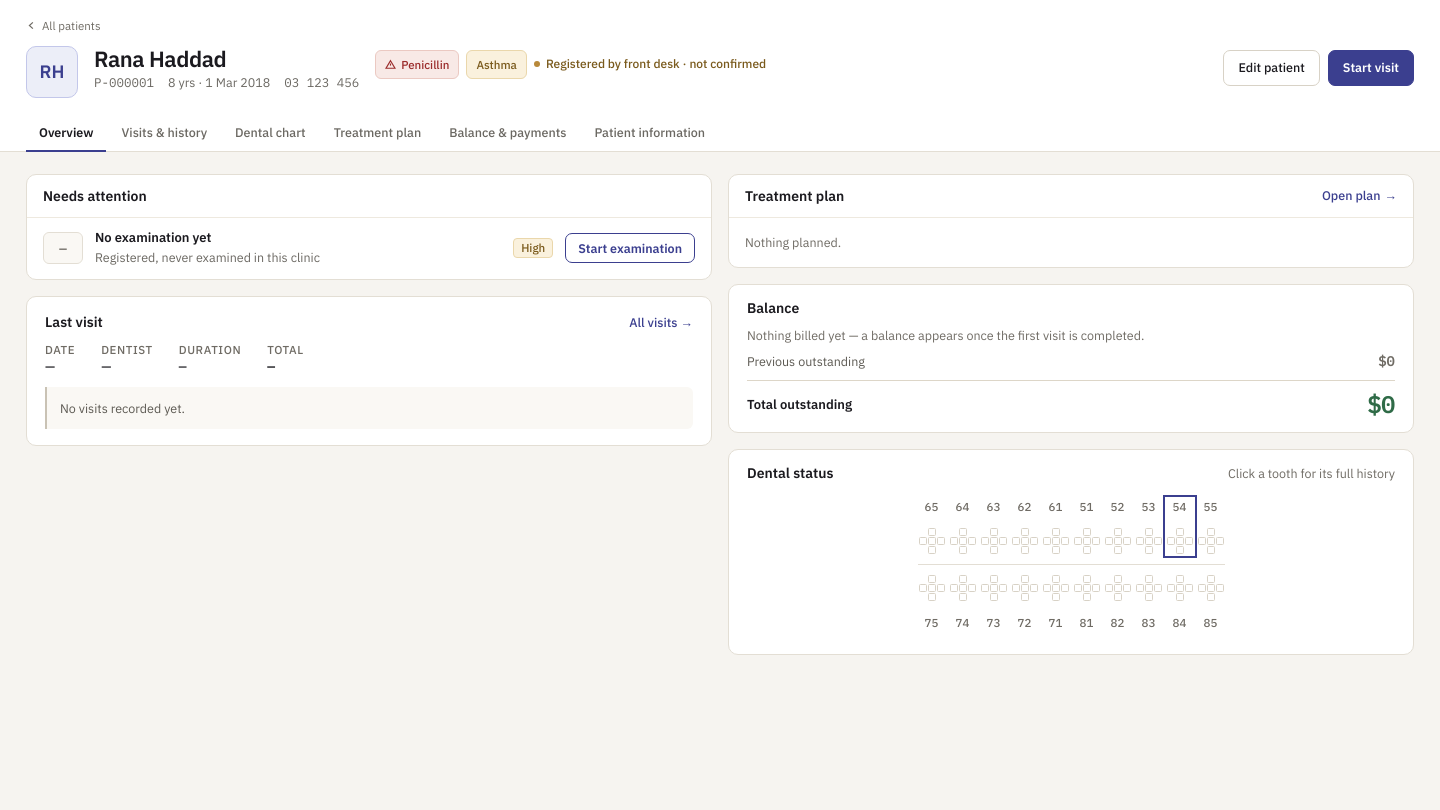
Test: ToothHistoryDialog › switches to the other tooth of the position through the succession link
The width and height of the screenshot is (1440, 810).
Expected: the heading "Rana Haddad" is shown, [94,46,226,71]
Click the button "54" at [1180, 527], box [1166,498,1194,556]
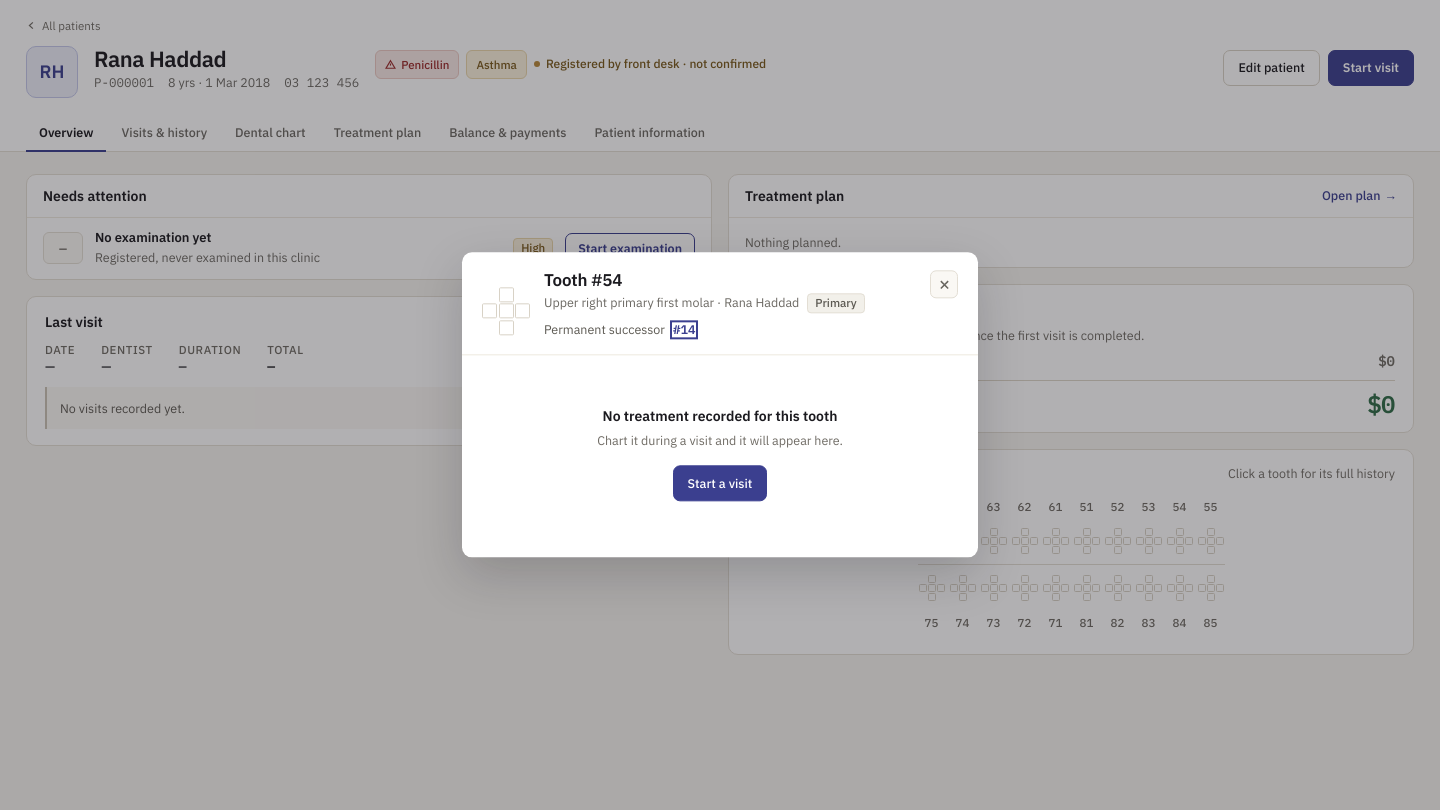
Expected: the text "Primary" is shown, [807,294,865,313]
Expected: the text "Permanent successor" is shown, [544,321,665,339]
Click the button "#14" at [684, 330], box [673,324,695,336]
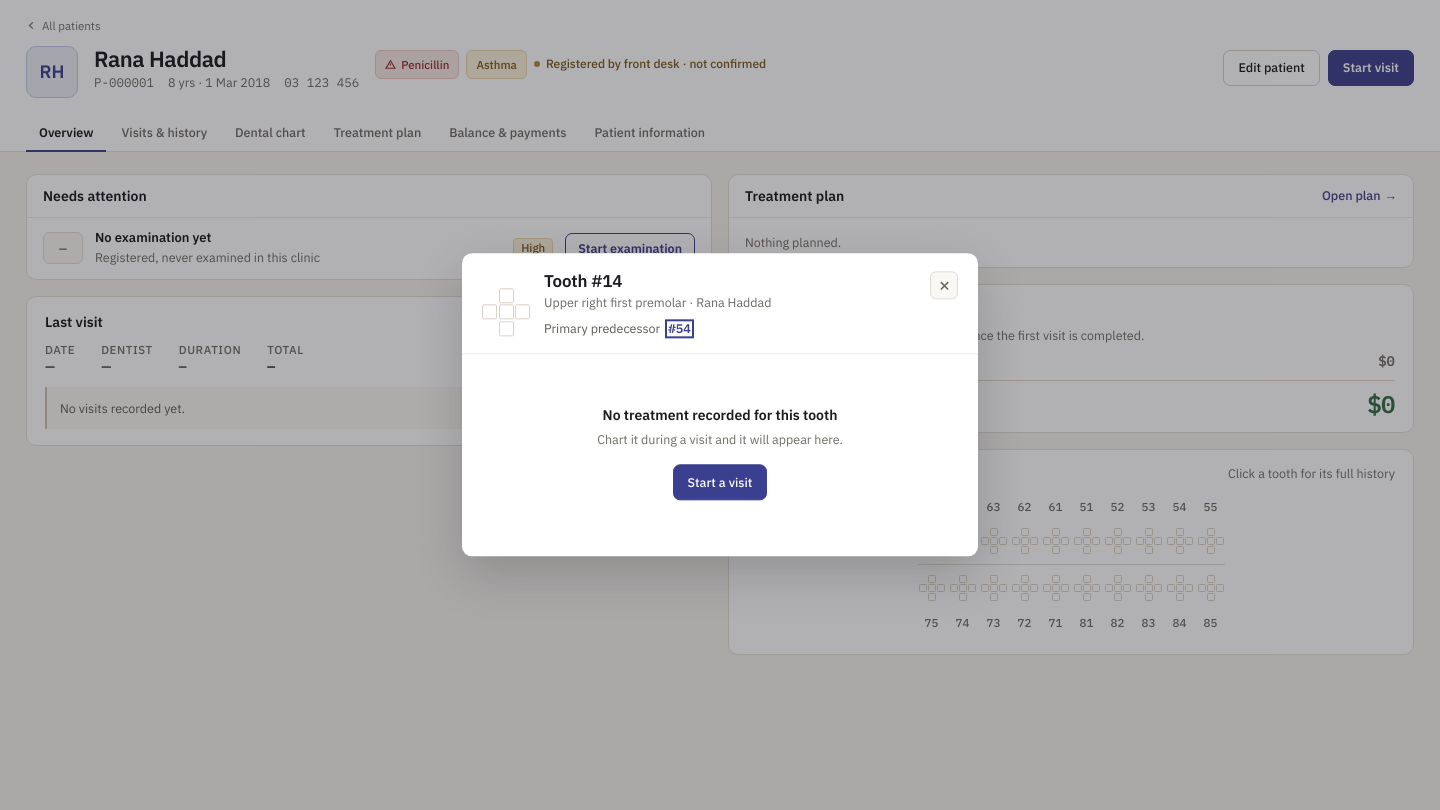
Expected: the text "Upper right first premolar · Rana Haddad" is shown, [544,295,772,312]
Expected: the text "Primary predecessor" is shown, [544,320,660,338]
Expected: the button "#54" is shown, [668,323,691,335]
